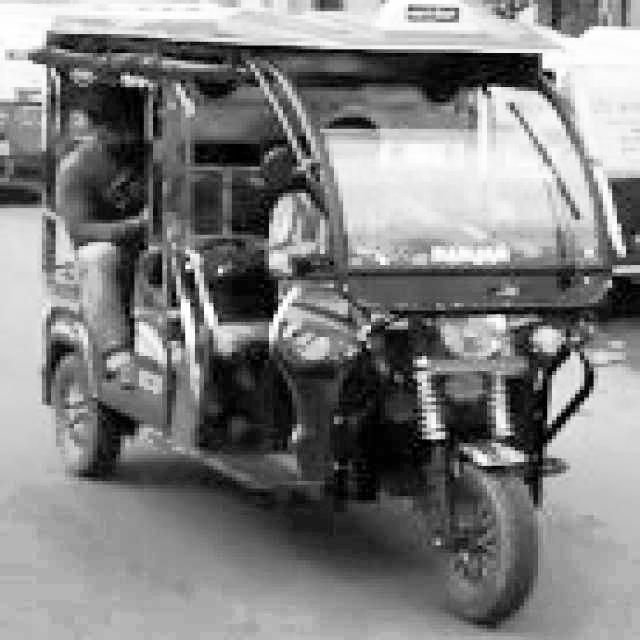Toto: (33, 10, 620, 635)
